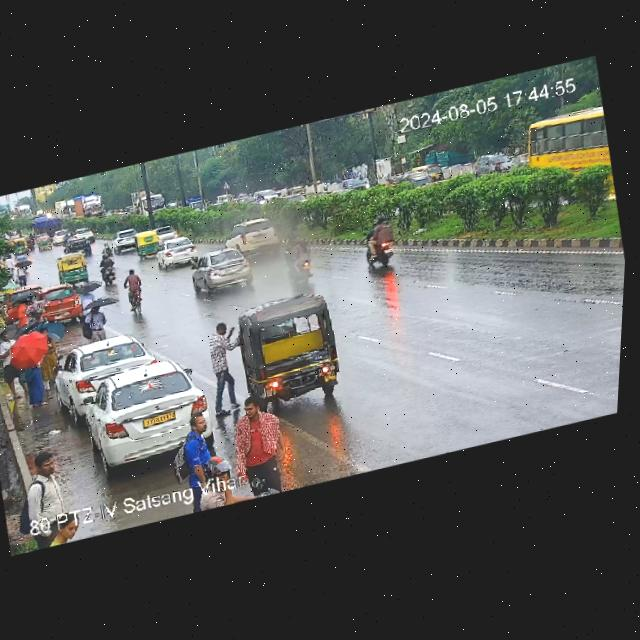bus: (521, 101, 619, 205)
car: (70, 349, 219, 474), (227, 285, 349, 417), (49, 326, 164, 414), (188, 242, 257, 296), (25, 279, 89, 331), (223, 214, 280, 258), (0, 283, 51, 329), (153, 238, 201, 276), (472, 146, 520, 181), (55, 251, 93, 288), (411, 156, 448, 187), (134, 228, 166, 261), (112, 226, 142, 255), (64, 235, 96, 261), (155, 223, 181, 243), (53, 227, 74, 244)
motorcycle: (361, 217, 400, 268), (121, 267, 156, 318)
person: (224, 391, 302, 501), (163, 408, 233, 511), (10, 446, 78, 552), (196, 316, 256, 420), (32, 324, 69, 397), (0, 325, 29, 416), (79, 301, 116, 344), (10, 261, 32, 290)
truck: (125, 186, 170, 224), (70, 190, 109, 227), (29, 210, 65, 237)
